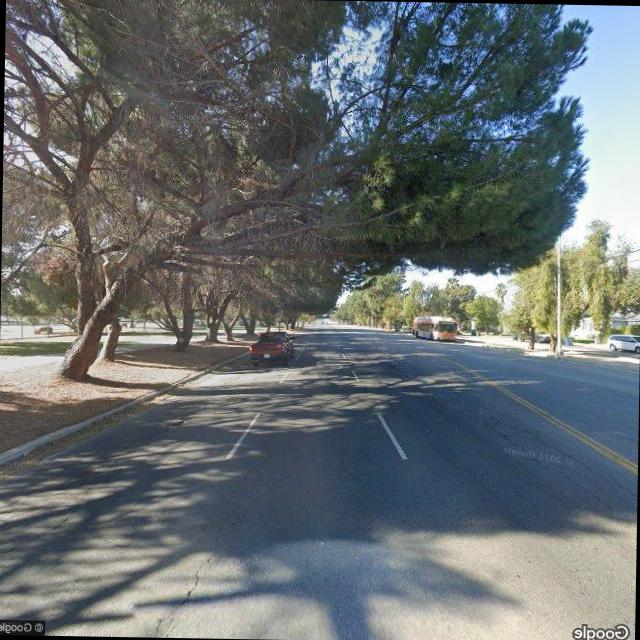pothole: (136, 520, 226, 636)
